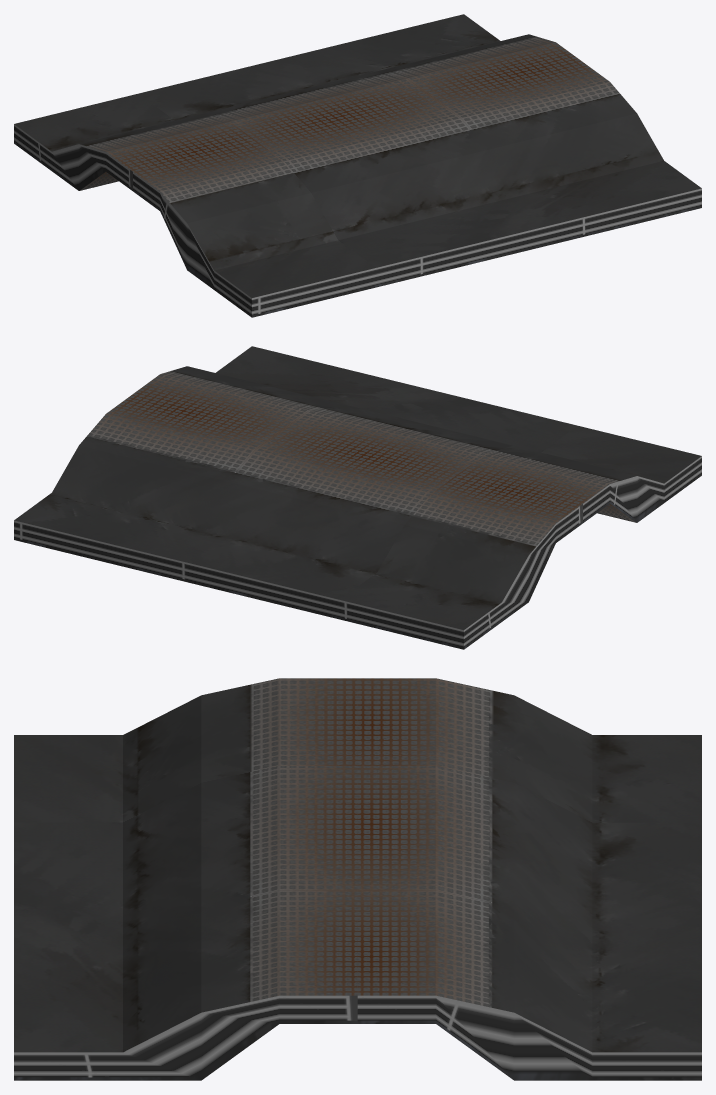
Rendered from SM_Roof_A.fbx.
The picture shows the model from 3 angles, top to bottom: view 1: azimuth 30°, elevation 25°; view 2: azimuth 150°, elevation 25°; view 3: azimuth 270°, elevation 25°; orthographic projection. The views are drawn at different scales.
Parts seen in each view (by area): view 1: Roof_A; view 2: Roof_A; view 3: Roof_A.
Part boxes in pixels (left/top/right/bottom): Roof_A: left=14, top=14, right=701, bottom=317; Roof_A: left=14, top=346, right=701, bottom=649; Roof_A: left=14, top=678, right=701, bottom=1080.
Bounding box in the file's own units: 2.4 × 0.3 × 2.2.
